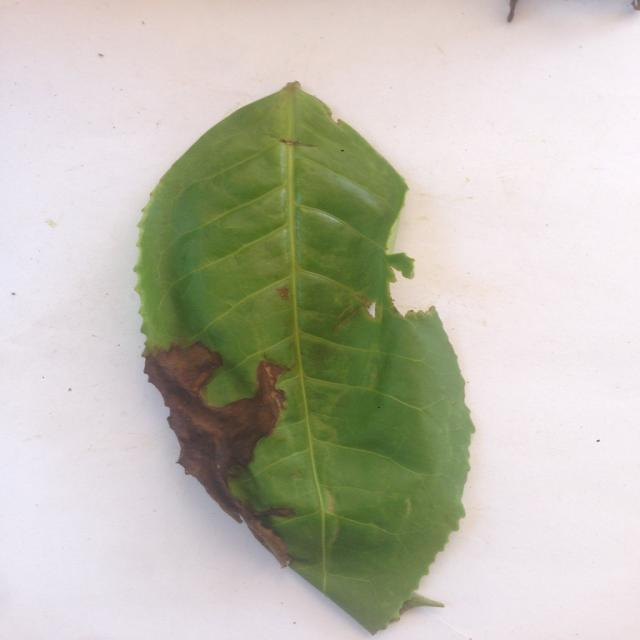Brown Blight: (132, 78, 509, 640)
